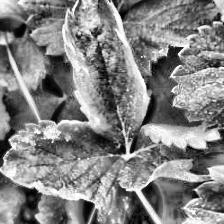Powdery Mildew Leaf: (0, 119, 133, 224), (61, 0, 150, 145), (117, 123, 224, 191), (178, 130, 224, 224)
